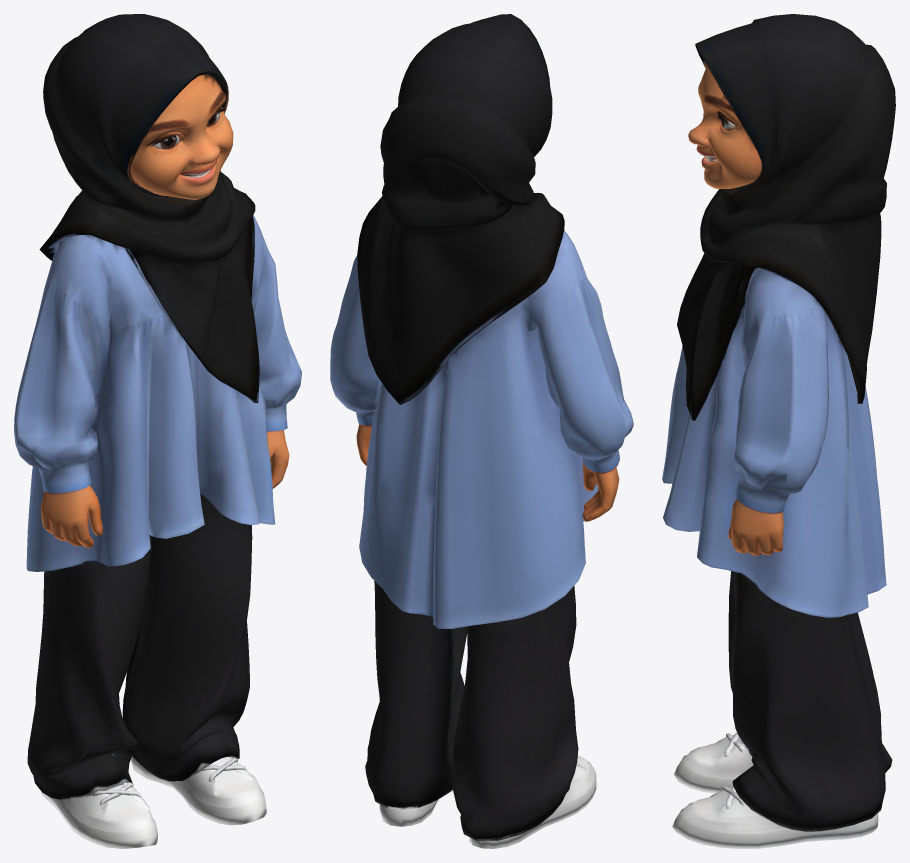
File: MokNgoh.glb
The picture shows the model from 3 angles, left to right: view 1: azimuth 30°, elevation 25°; view 2: azimuth 150°, elevation 25°; view 3: azimuth 270°, elevation 25°; orthographic projection.
Parts seen in each view (by area): view 1: tripo_39bc9901_1127_45c0_bca3_801816db08fc; view 2: tripo_39bc9901_1127_45c0_bca3_801816db08fc; view 3: tripo_39bc9901_1127_45c0_bca3_801816db08fc.
Boxes of the visible parts, x1,y1,x2,y2 form: tripo_39bc9901_1127_45c0_bca3_801816db08fc: (14,14,301,848); tripo_39bc9901_1127_45c0_bca3_801816db08fc: (330,14,633,848); tripo_39bc9901_1127_45c0_bca3_801816db08fc: (662,14,895,848).
Bounding box in the file's own units: 0.3872 × 0.9995 × 0.269.
Materials: 1 (1 with a texture image).
